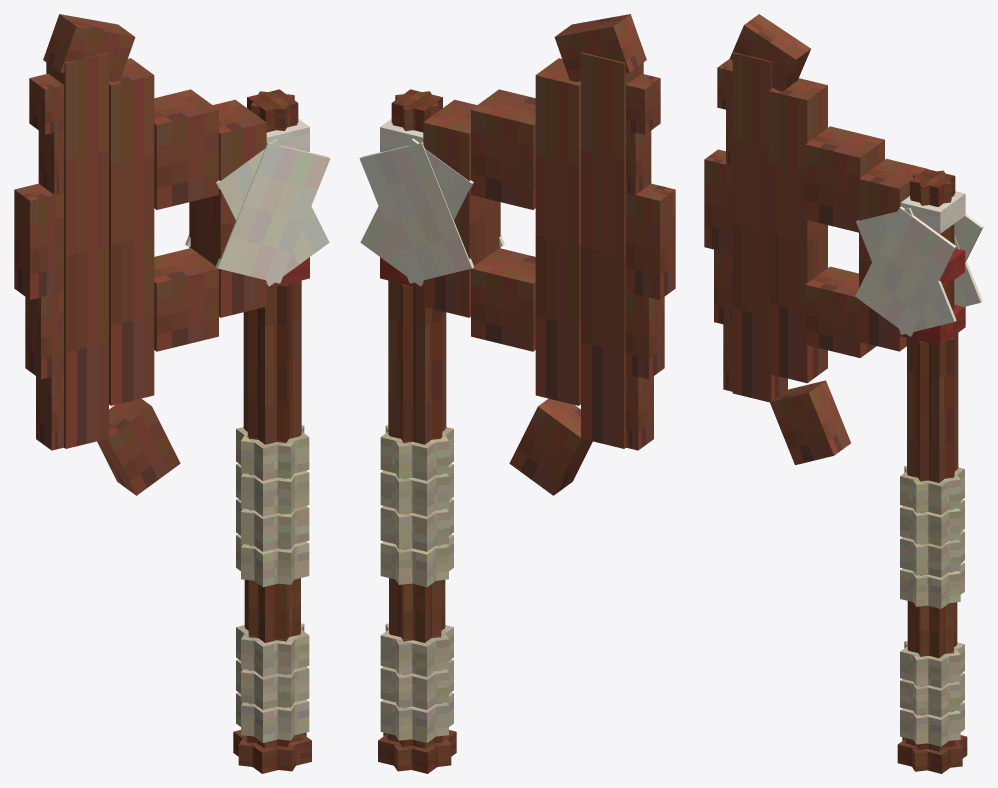
The model's file is axe_bone_v2.obj.
3 views of the same model, side by side, from view 1: azimuth 30°, elevation 25°; view 2: azimuth 150°, elevation 25°; view 3: azimuth 330°, elevation 25° (orthographic). The views are drawn at different scales.
Visible parts, largest first — view 1: axe_bone_v2; view 2: axe_bone_v2; view 3: axe_bone_v2.
Part boxes in pixels (<box>): axe_bone_v2: <box>14,14,330,773</box>; axe_bone_v2: <box>359,14,675,773</box>; axe_bone_v2: <box>704,14,983,773</box>.
Size of the model in its own units: 0.6738 by 1.74 by 0.1573.
